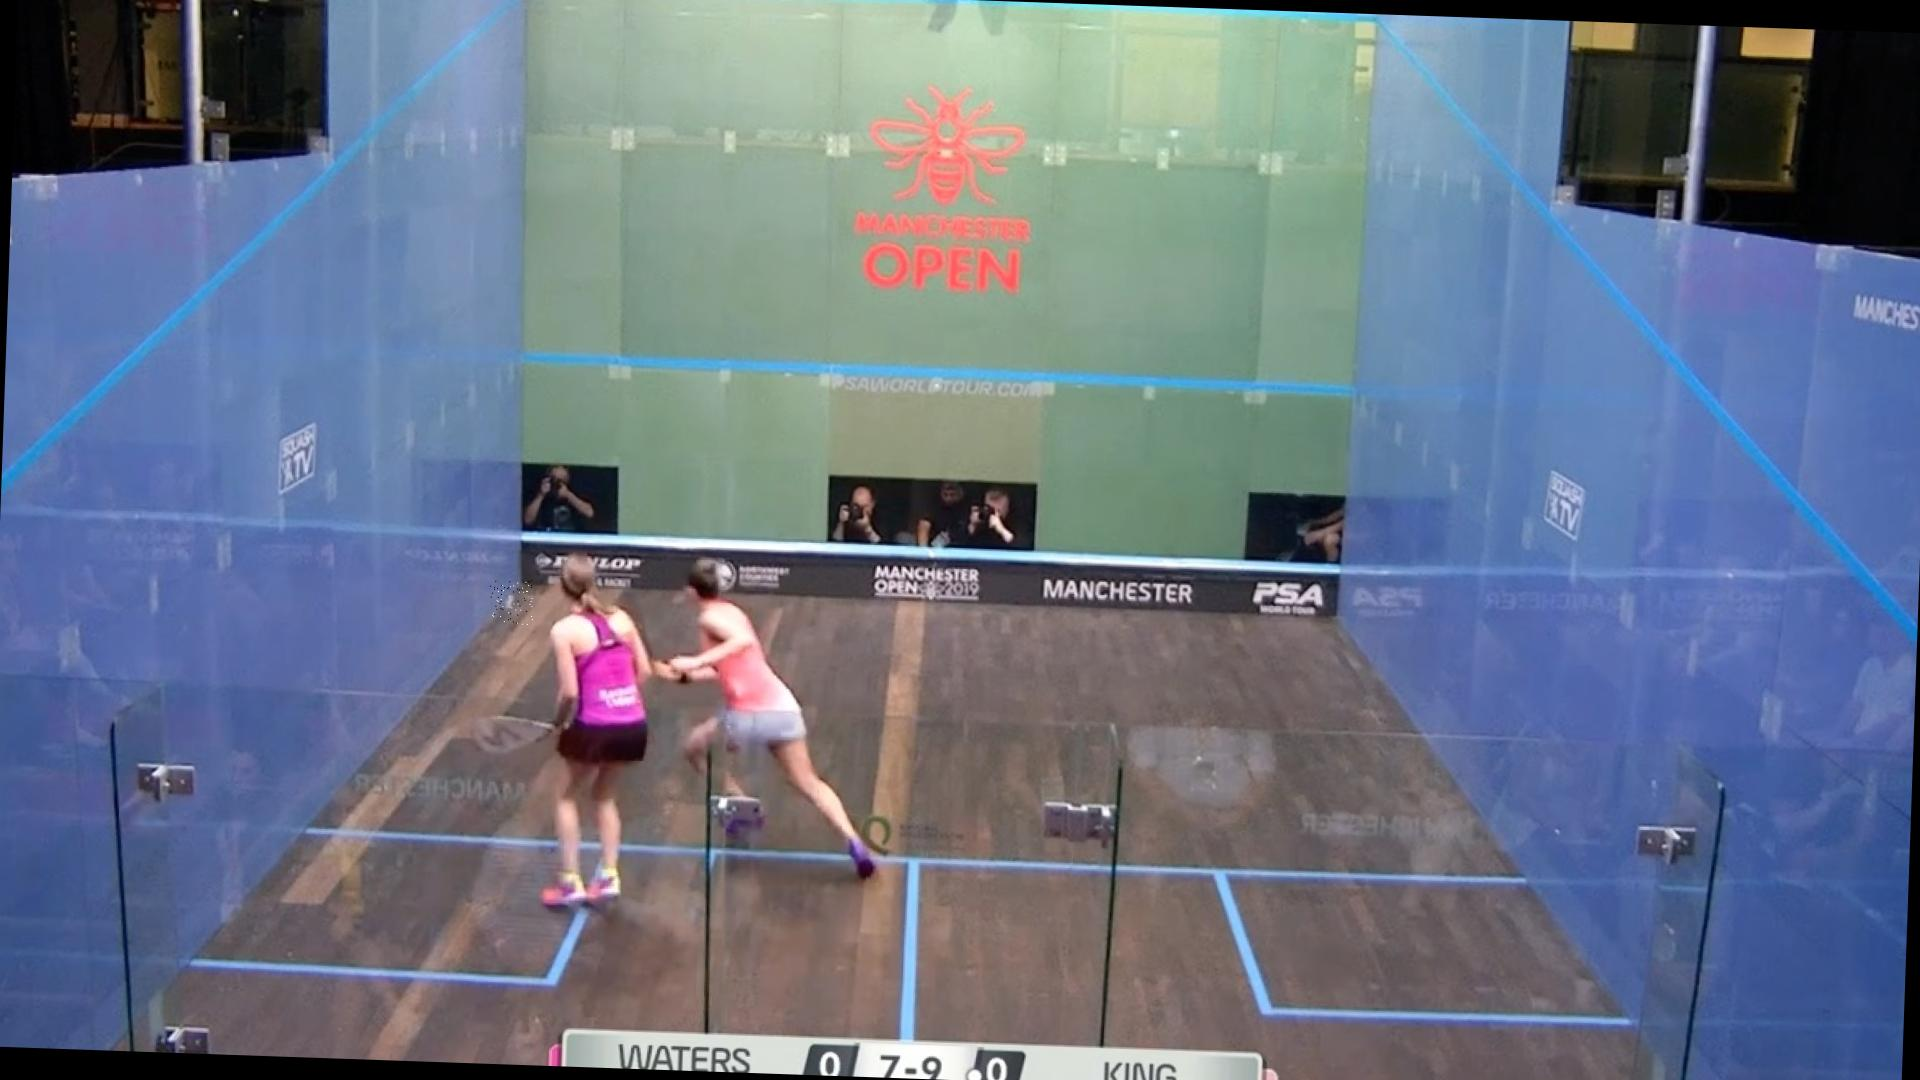Squash-Ball: (488, 579, 535, 625)
